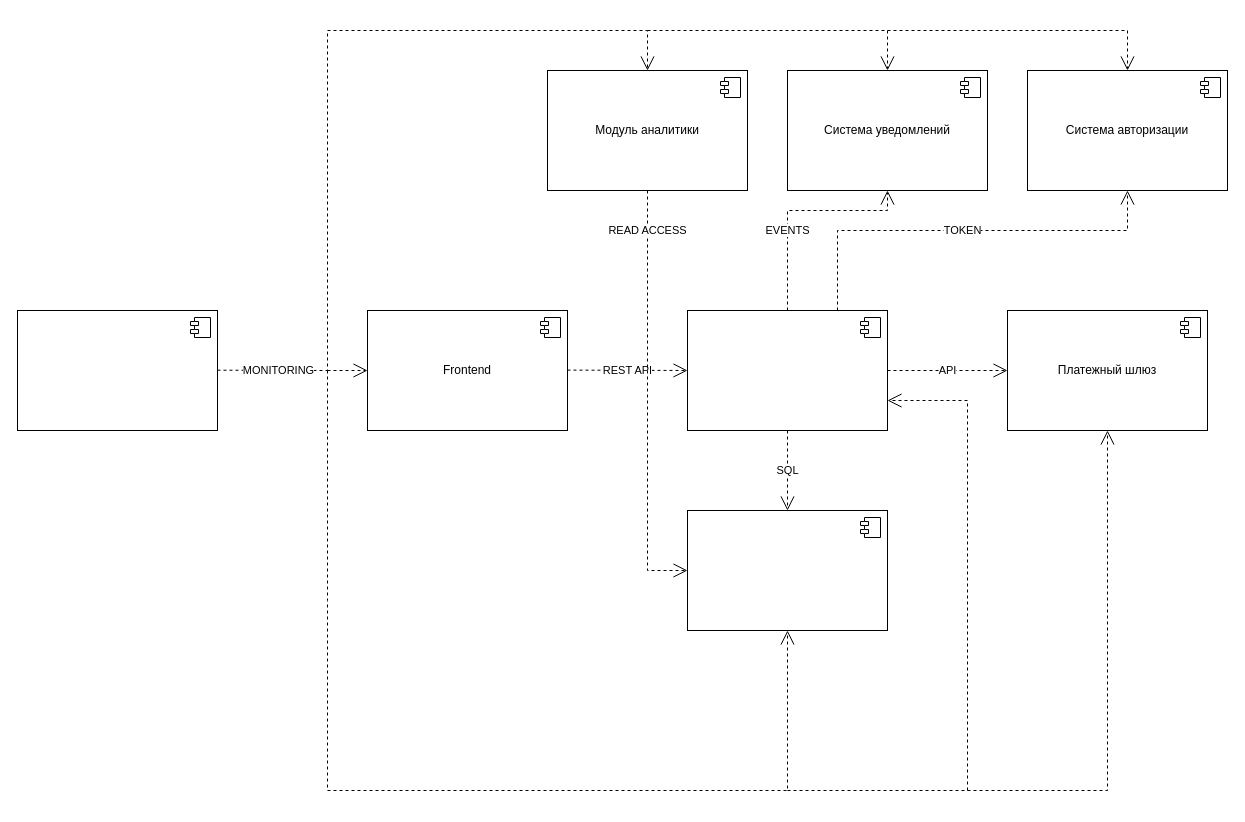
Some shapes in this 1245 by 822 pixel diagram are drawn without their labels. Here are the shapes that lost their labels. From the top down, the centre of each, then its label:
At pixel 117 370: "Система мониторинга".
At pixel 787 370: "Backend".
At pixel 787 570: "База данных".
